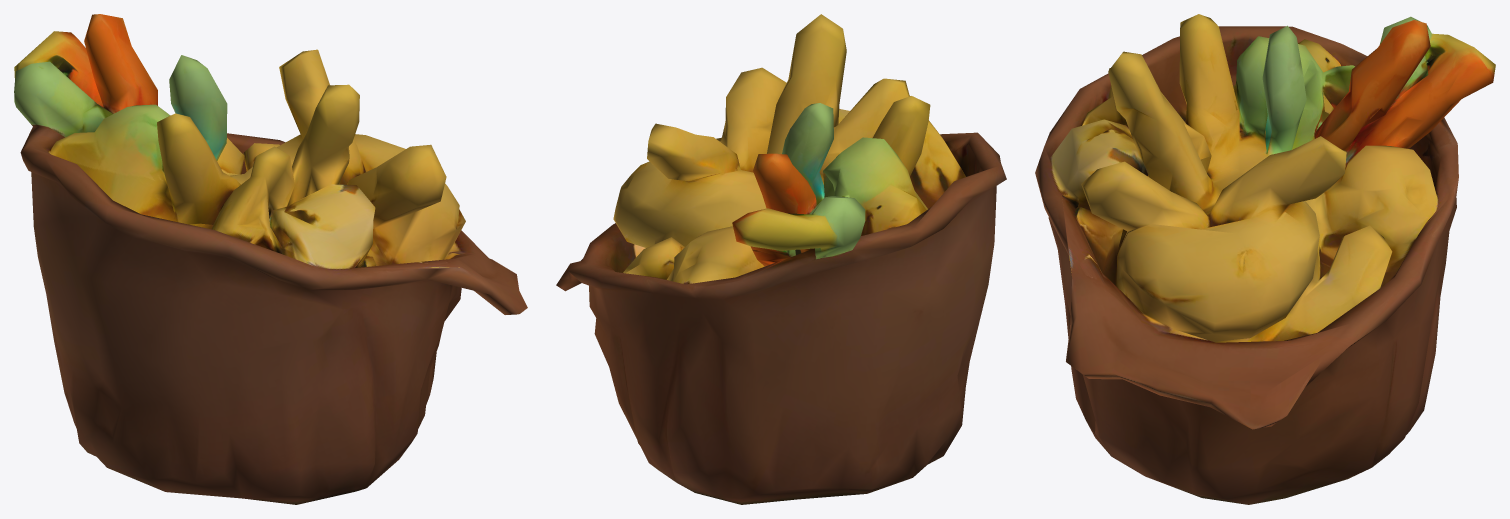
Rendered from TripoModel.glb.
3 views of the same model, side by side, from view 1: azimuth 30°, elevation 25°; view 2: azimuth 150°, elevation 25°; view 3: azimuth 270°, elevation 25° (orthographic). The views are drawn at different scales.
Parts seen in each view (by area): view 1: tripo_node_cdcfdf21-1a3e-474d-8335-a2c99de191e1; view 2: tripo_node_cdcfdf21-1a3e-474d-8335-a2c99de191e1; view 3: tripo_node_cdcfdf21-1a3e-474d-8335-a2c99de191e1.
Part boxes in pixels (x1=…): tripo_node_cdcfdf21-1a3e-474d-8335-a2c99de191e1: x1=14, y1=14, x2=527, y2=504; tripo_node_cdcfdf21-1a3e-474d-8335-a2c99de191e1: x1=556, y1=14, x2=1006, y2=504; tripo_node_cdcfdf21-1a3e-474d-8335-a2c99de191e1: x1=1035, y1=14, x2=1495, y2=504.
Bounding box in the file's own units: 1 × 0.9152 × 0.9369.
Materials: 1 (1 with a texture image).
